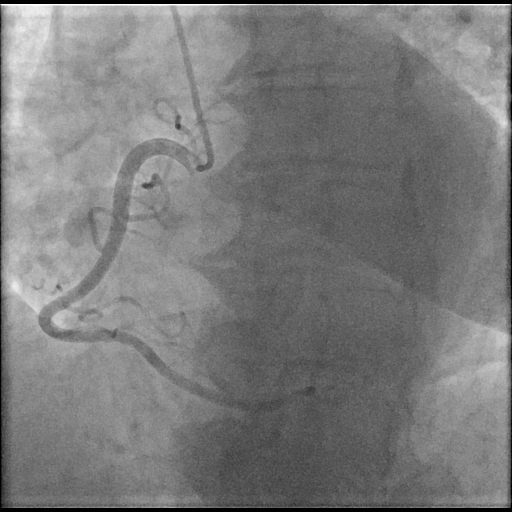RCA: (38, 138, 316, 409)
catherter: (171, 5, 214, 171)
